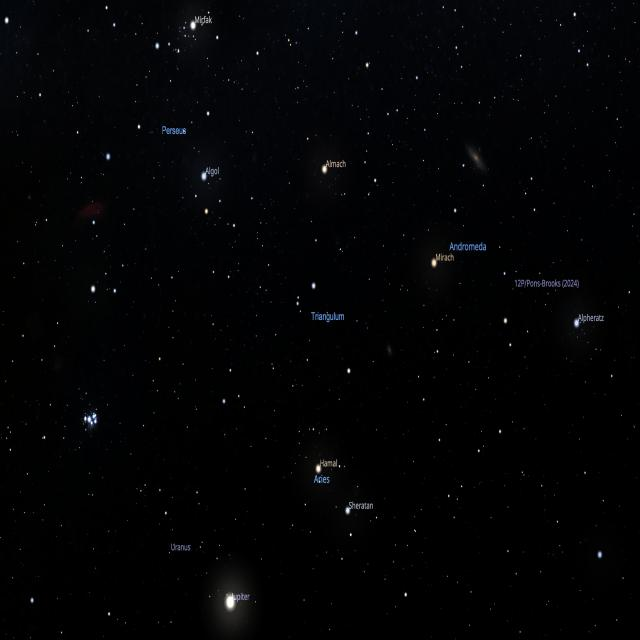Triangulum: (289, 280, 354, 378)
